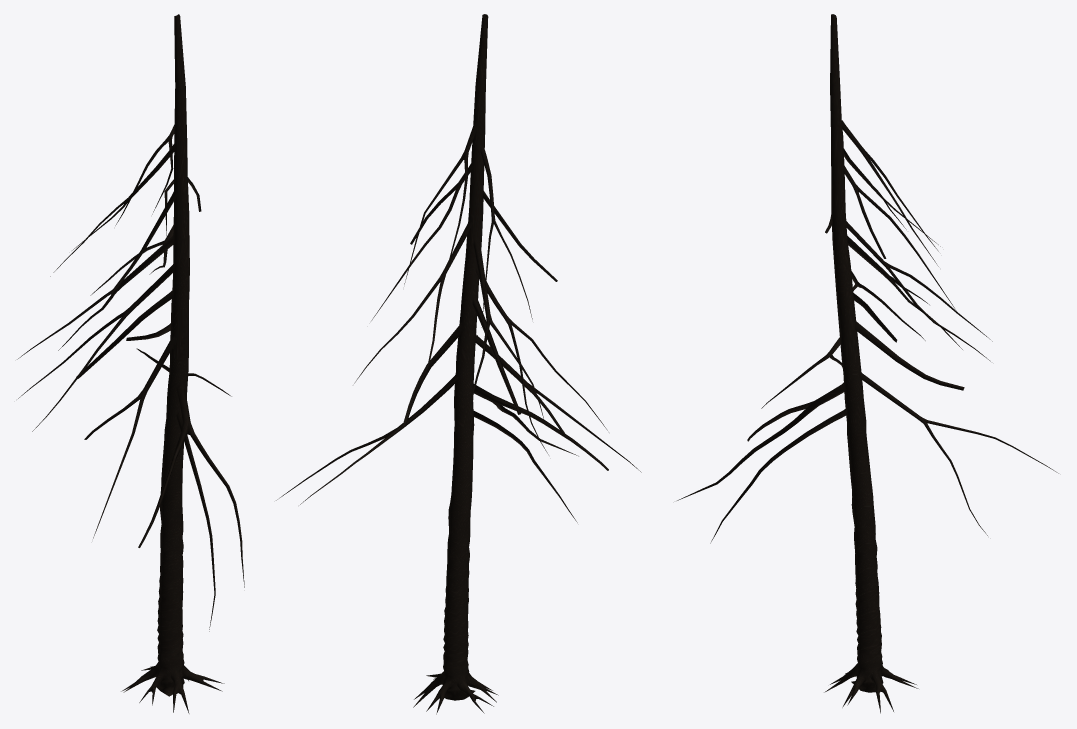
The model's file is spmTree_LOD1 (merge).fbx.
The picture shows the model from 3 angles, left to right: view 1: azimuth 30°, elevation 25°; view 2: azimuth 150°, elevation 25°; view 3: azimuth 270°, elevation 25°; orthographic projection. The views are drawn at different scales.
Parts seen in each view (by area): view 1: spmTree_LOD1; view 2: spmTree_LOD1; view 3: spmTree_LOD1.
Part boxes in pixels (x1,y1,x2,y2): spmTree_LOD1: (17, 14, 244, 713); spmTree_LOD1: (276, 14, 641, 714); spmTree_LOD1: (677, 14, 1058, 713).
Bounding box in the file's own units: 45.93 × 112 × 58.19.
Materials: 1 (1 with a texture image).
